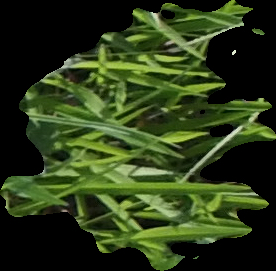grass: (1, 1, 275, 270)
